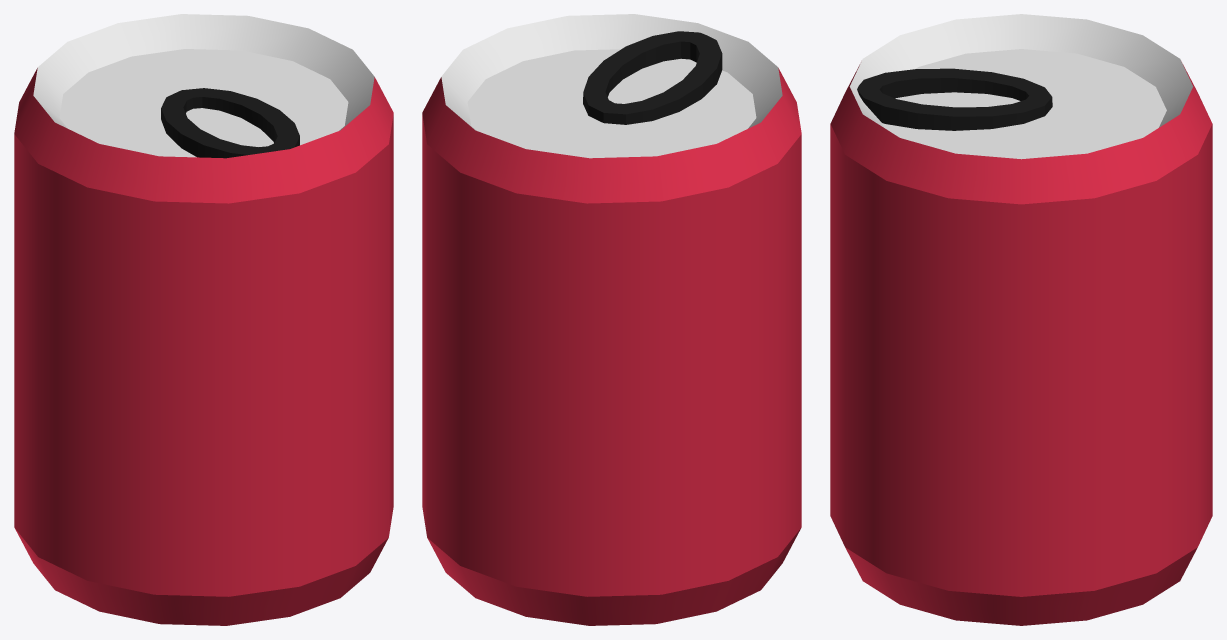
Rendered from Canette.fbx.
3 renders of one model, left to right at view 1: azimuth 30°, elevation 25°; view 2: azimuth 150°, elevation 25°; view 3: azimuth 270°, elevation 25°, orthographic.
Parts seen in each view (by area): view 1: Cylinder.008; view 2: Cylinder.008; view 3: Cylinder.008.
Boxes of the visible parts, <box> form: Cylinder.008: <box>14,14,393,625</box>; Cylinder.008: <box>422,14,801,625</box>; Cylinder.008: <box>830,14,1212,625</box>.
Size of the model in its own units: 14.8 by 19.96 by 14.8.
